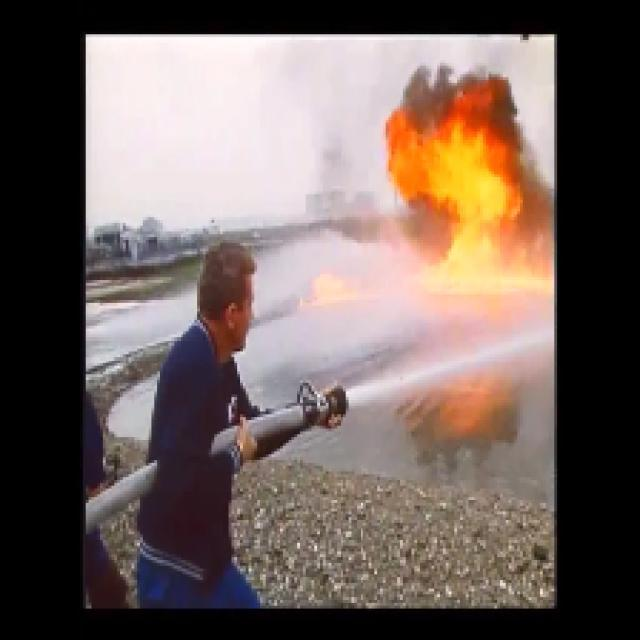Fire: (388, 81, 548, 267)
